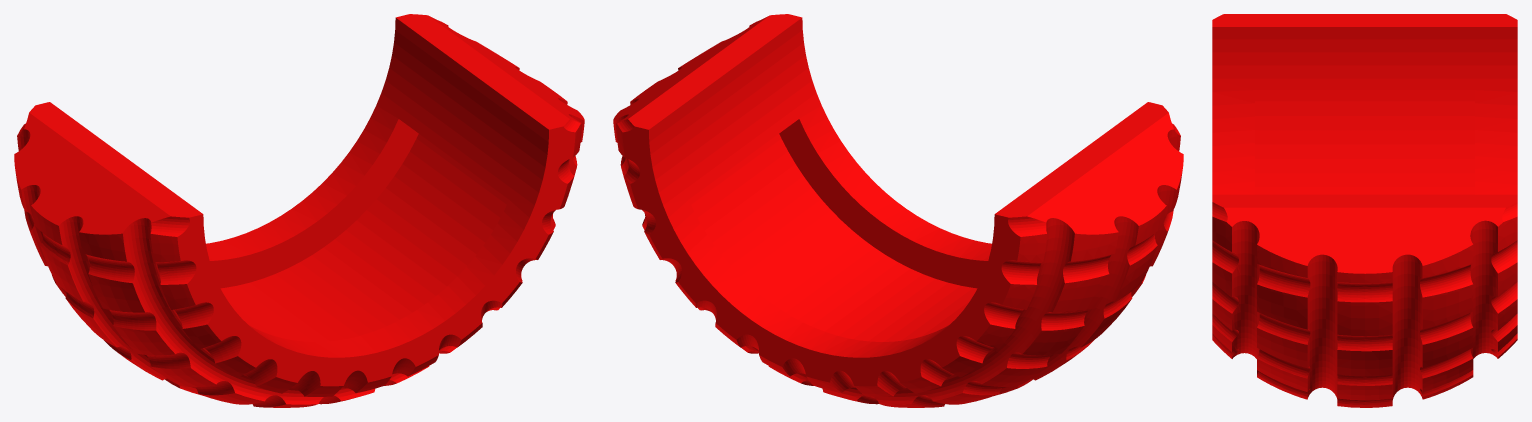
The model's file is V1.02_Foot.dae.
3 views of the same model, side by side, from view 1: azimuth 30°, elevation 25°; view 2: azimuth 150°, elevation 25°; view 3: azimuth 270°, elevation 25° (orthographic).
Visible parts, largest first — view 1: V1.02_Foot; view 2: V1.02_Foot; view 3: V1.02_Foot.
Boxes of the visible parts, bbox=[...] form: V1.02_Foot: bbox=[14, 14, 584, 407]; V1.02_Foot: bbox=[613, 14, 1183, 407]; V1.02_Foot: bbox=[1212, 14, 1517, 407].
Bounding box in the file's own units: 38.49 × 20 × 19.45.
